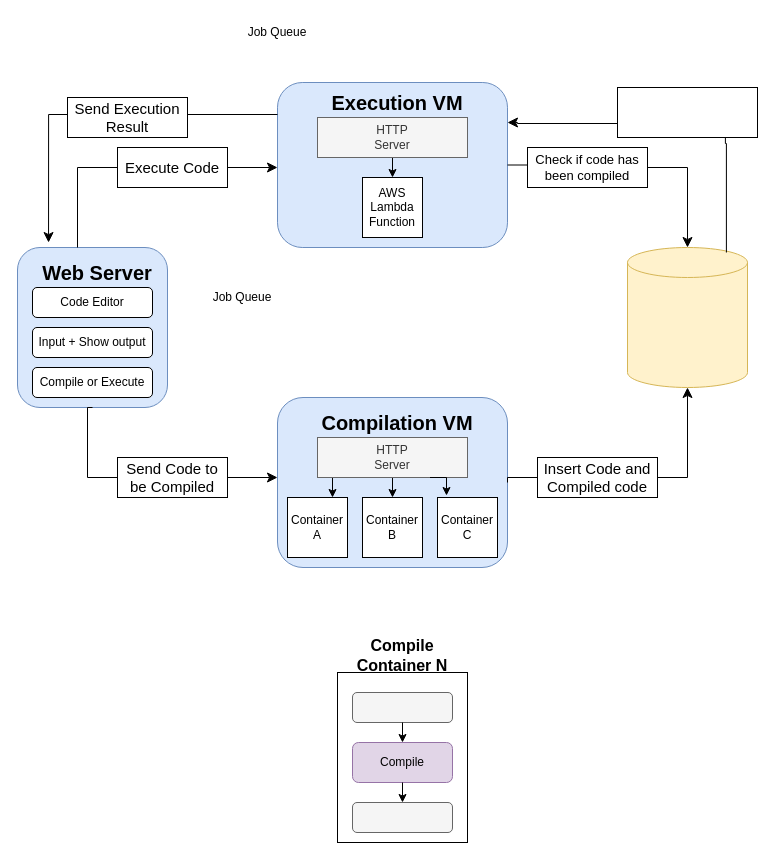
Some shapes in this 775 by 860 pixel diagram are drawn without their labels. Here are the shapes that lost their labels. From the top down, the box of each, then its label:
(616, 86, 758, 138): Send compiled code to be executed
(626, 246, 748, 388): S3
(352, 692, 452, 722): Code
(352, 802, 452, 832): Output
